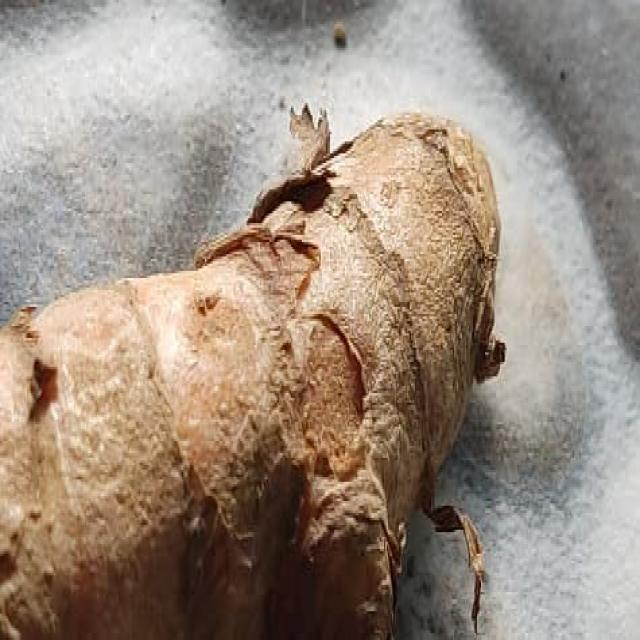ginger: (7, 108, 498, 632)
